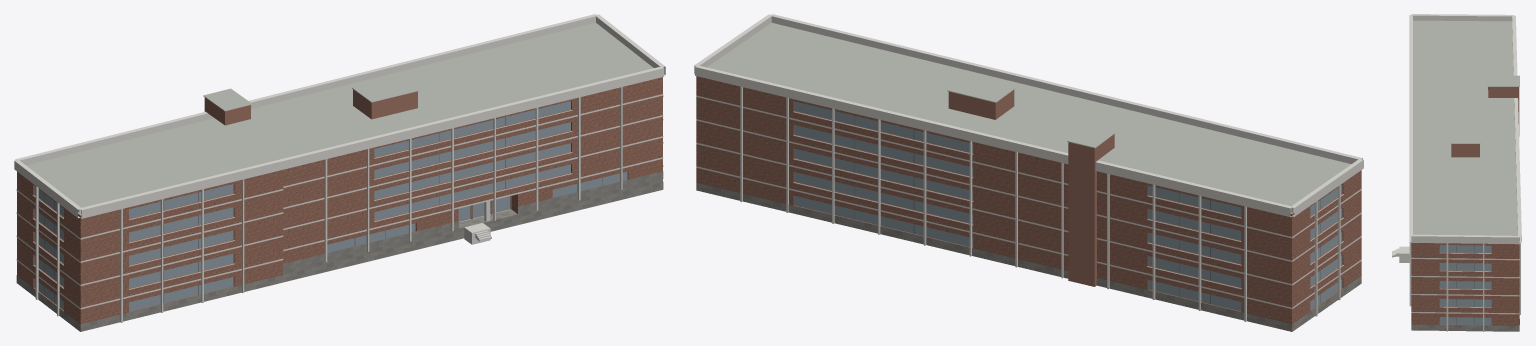
3 views of the same model, side by side, from view 1: azimuth 30°, elevation 25°; view 2: azimuth 150°, elevation 25°; view 3: azimuth 270°, elevation 25° (orthographic). The views are drawn at different scales.
Parts seen in each view (by area): view 1: edu13__wall, edu13__roof, edu13__trim, edu13__glass, edu13__base, edu13__wall2, edu13__entranceStair; view 2: edu13__wall, edu13__roof, edu13__trim, edu13__glass, edu13__wall2, edu13__base; view 3: edu13__roof, edu13__wall, edu13__trim, edu13__glass, edu13__wall2, edu13__base, edu13__entranceStair.
Boxes of the visible parts, <box> form: edu13__wall: <box>17,77,662,331</box>; edu13__roof: <box>26,22,661,281</box>; edu13__trim: <box>14,14,665,322</box>; edu13__glass: <box>34,101,627,311</box>; edu13__base: <box>16,171,663,331</box>; edu13__wall2: <box>204,89,417,125</box>; edu13__entranceStair: <box>464,223,491,244</box>; edu13__wall: <box>696,76,1361,331</box>; edu13__roof: <box>707,23,1351,213</box>; edu13__trim: <box>694,14,1363,321</box>; edu13__glass: <box>794,101,1342,311</box>; edu13__wall2: <box>948,90,1114,286</box>; edu13__base: <box>696,182,1361,331</box>; edu13__roof: <box>1413,20,1519,235</box>; edu13__wall: <box>1411,243,1519,325</box>; edu13__trim: <box>1409,14,1521,331</box>; edu13__glass: <box>1439,245,1491,324</box>; edu13__wall2: <box>1451,87,1519,157</box>; edu13__base: <box>1411,319,1519,331</box>; edu13__entranceStair: <box>1392,246,1409,262</box>.
Bounding box in the file's own units: 95.71 × 21.53 × 23.49.
Materials: 10 (2 with a texture image).
